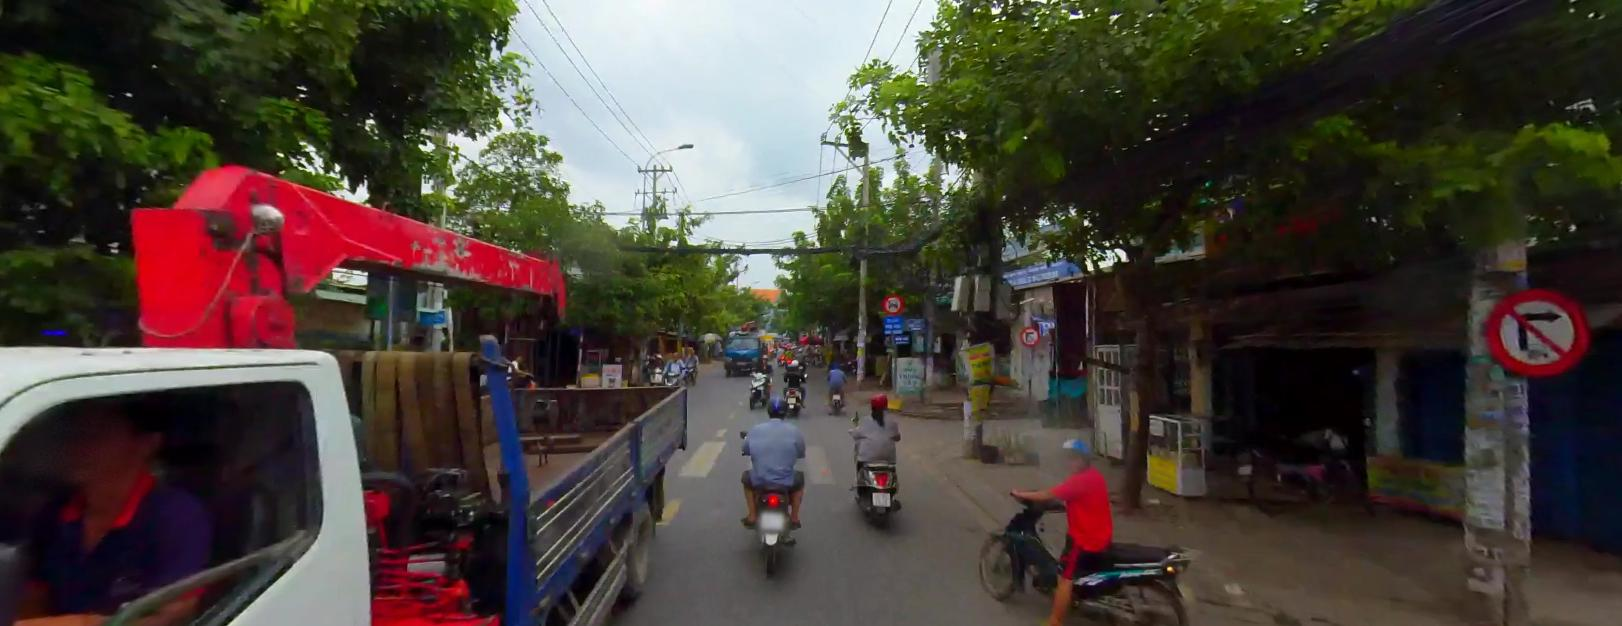Cam con lai: (882, 292, 902, 312)
Cam re: (1477, 281, 1591, 380), (1018, 325, 1042, 346)
